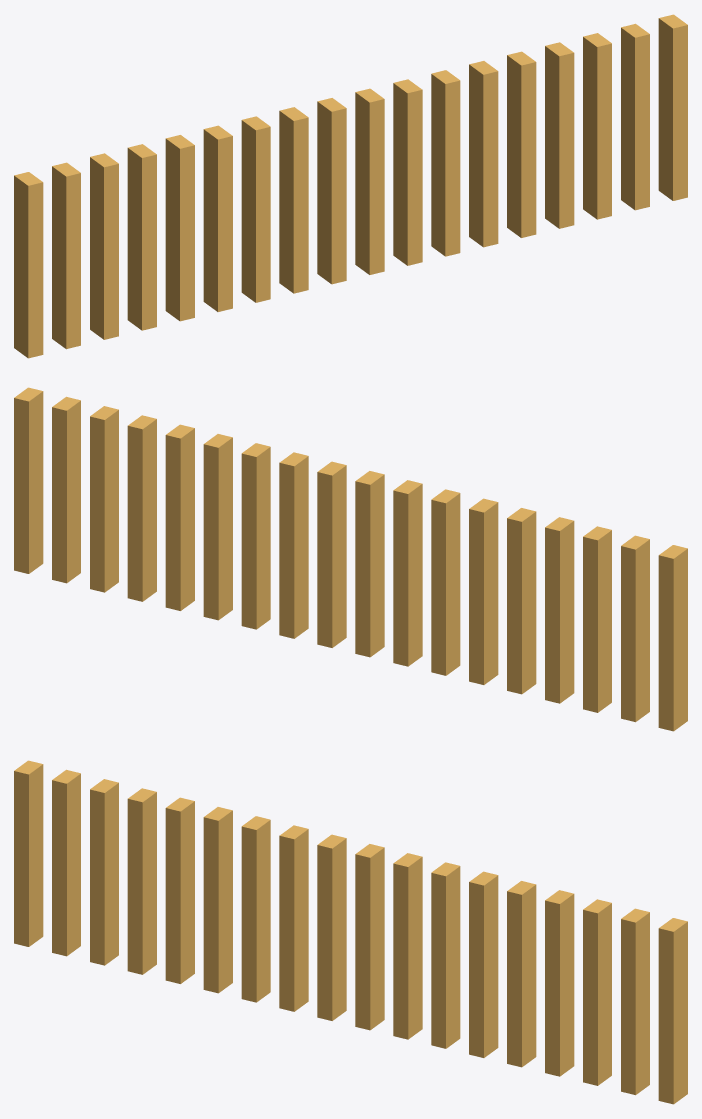
The model's file is Partitions_019.glb.
3 renders of one model, top to bottom at view 1: azimuth 30°, elevation 25°; view 2: azimuth 150°, elevation 25°; view 3: azimuth 330°, elevation 25°, orthographic.
Visible parts, largest first — view 1: Partitions_019; view 2: Partitions_019; view 3: Partitions_019.
Boxes of the visible parts, box(x1,y1,x2,y2) form: Partitions_019: box(14, 14, 687, 358); Partitions_019: box(14, 387, 687, 731); Partitions_019: box(14, 760, 687, 1104).
Size of the model in its own units: 4 by 1 by 0.15.
1 material, 1 textured.
